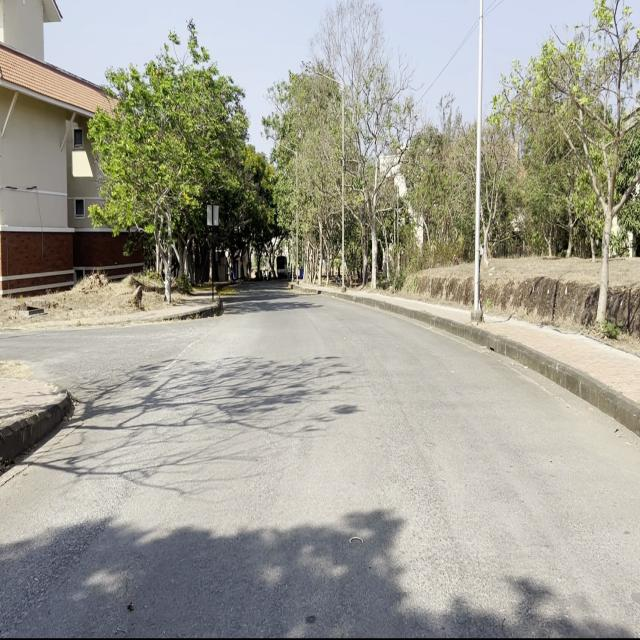Road: (2, 288, 639, 639)
